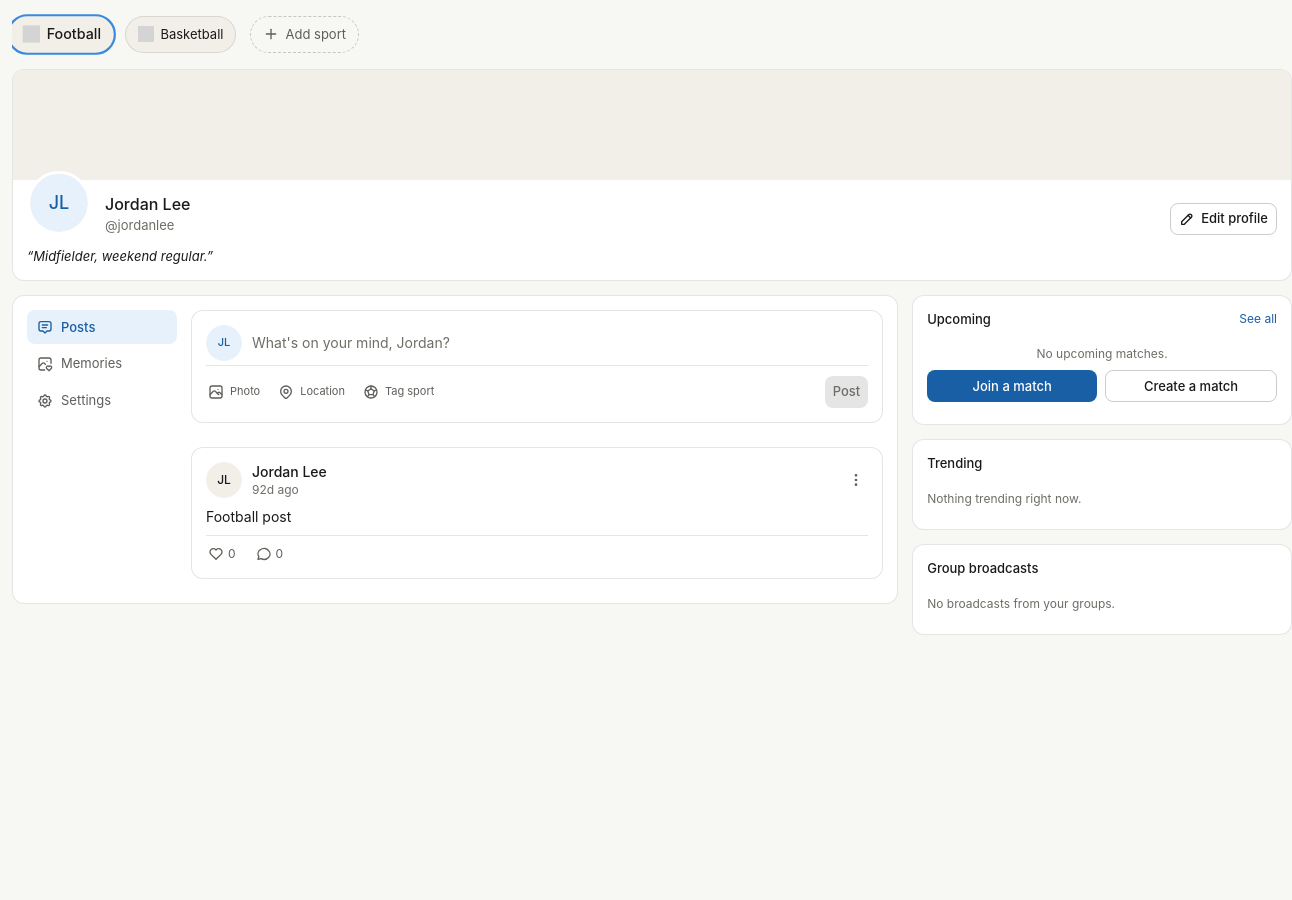
Test: ProfilePage › Settings unsaved-changes guard (PROFILE-10) › does not block switching tabs/pills when Settings has no unsaved changes
Expected: the text "Football post" is shown, 206,508 -> 291,524
Step 1. Click the tab "Settings" → (102, 401), box 27,383 -> 177,418
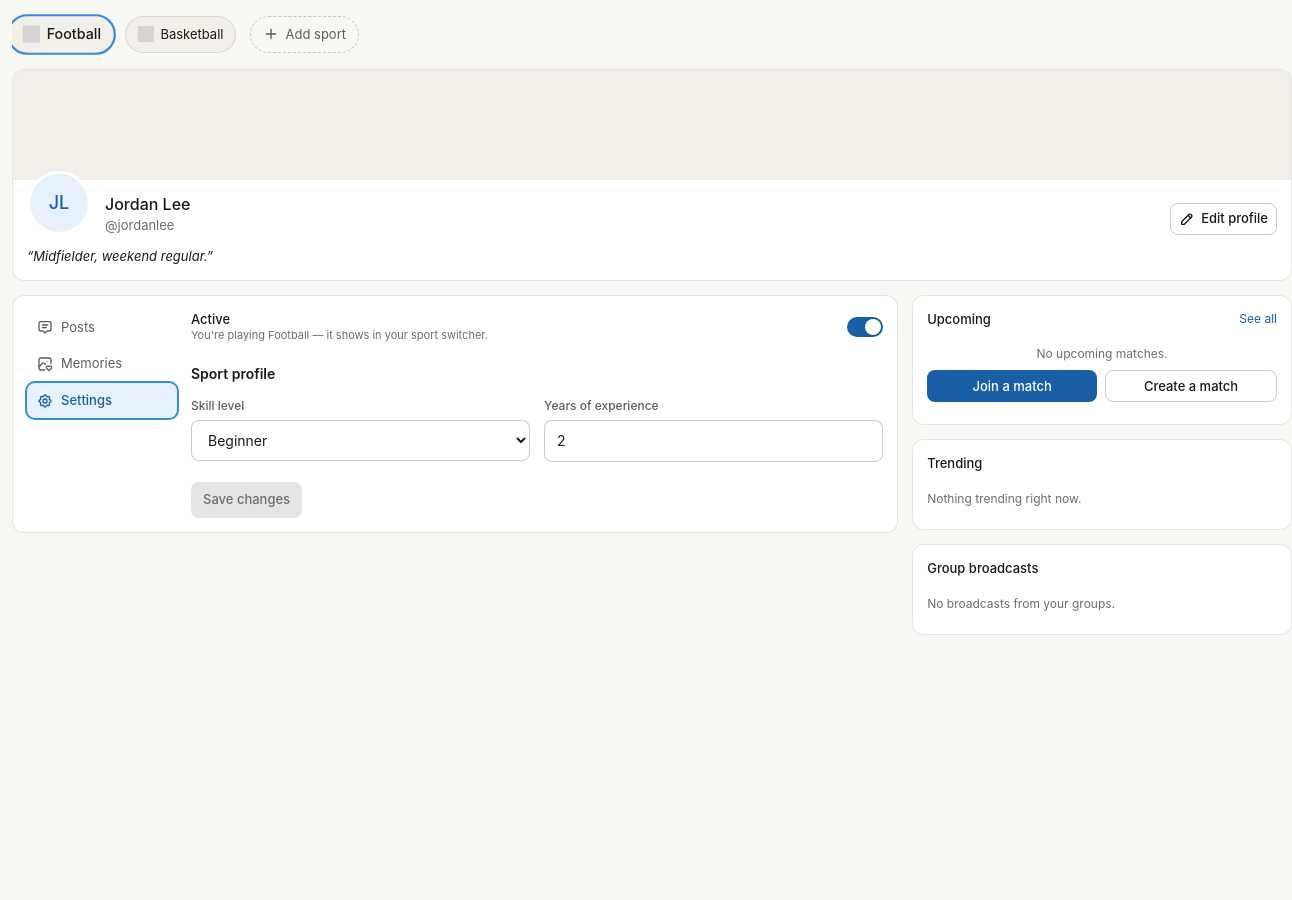
Result: the dropdown labelled "Skill level" shows "Beginner" at 191,420 -> 530,461
Step 2. Click the tab "Posts" → (102, 327), box 27,310 -> 177,344
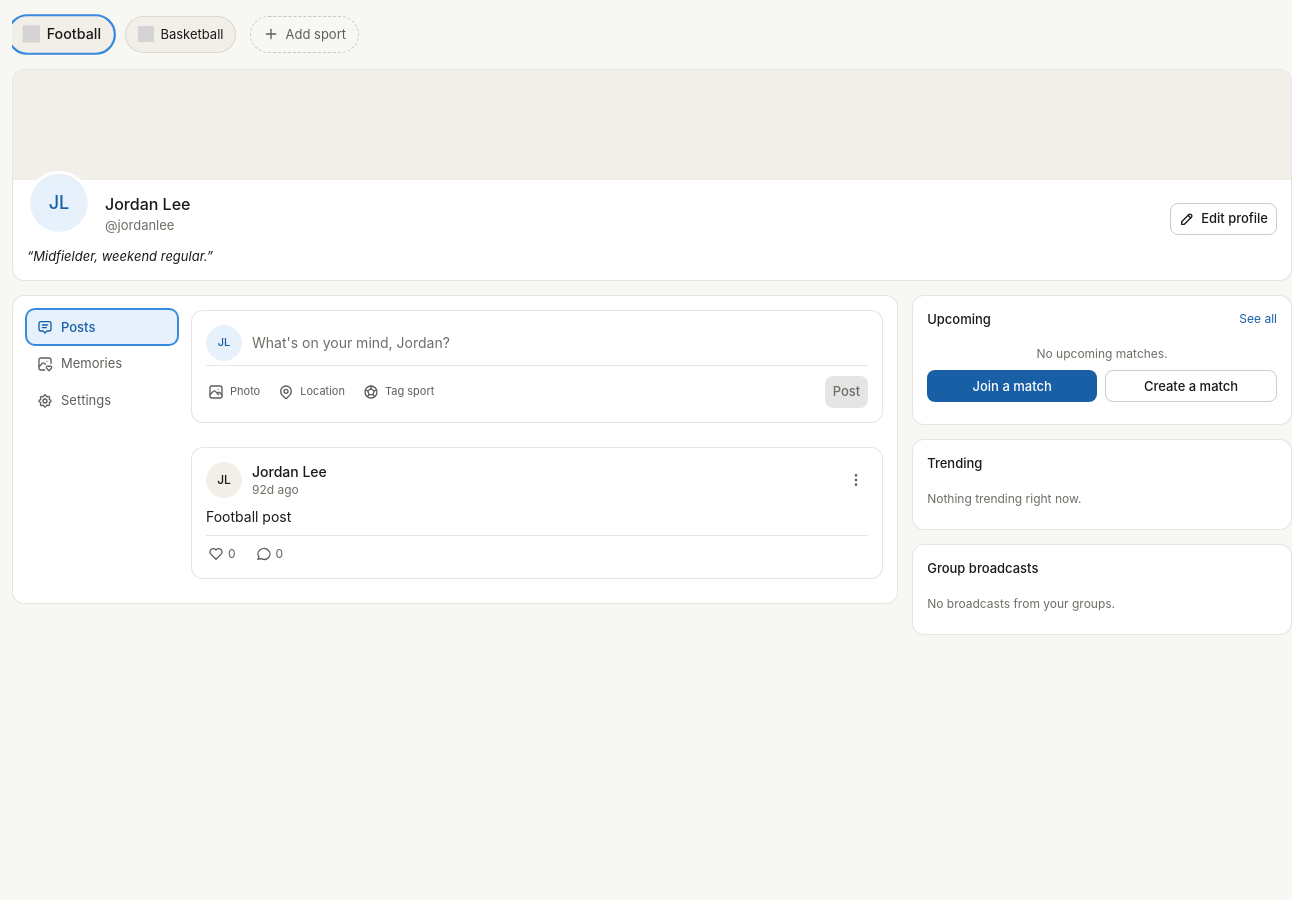
Result: the text "Football post" is shown at 206,508 -> 291,524
